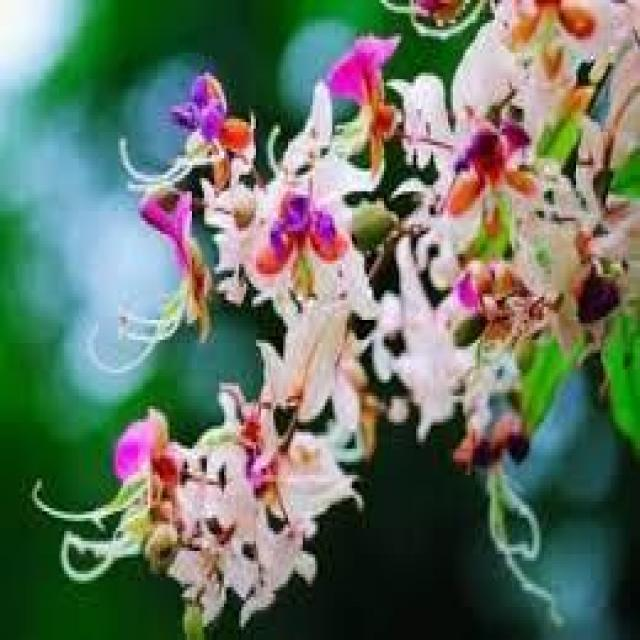organic waste: (64, 414, 322, 576), (162, 67, 264, 186), (268, 200, 367, 292)
